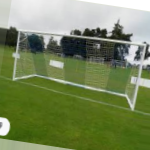goals: (12, 29, 147, 114)
